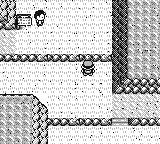leer: (16, 14, 32, 29)
main: (81, 61, 95, 76)
no-caminable: (112, 0, 160, 93), (1, 95, 47, 143), (1, 0, 16, 29)
npc: (34, 10, 46, 26)
salto: (1, 54, 111, 62), (48, 119, 112, 125), (129, 118, 160, 125)
